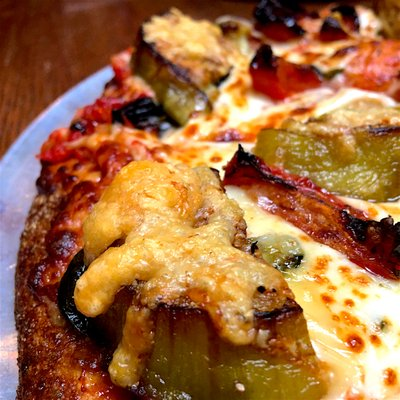curry: (1, 1, 393, 390)
sandwich: (8, 2, 400, 399)
